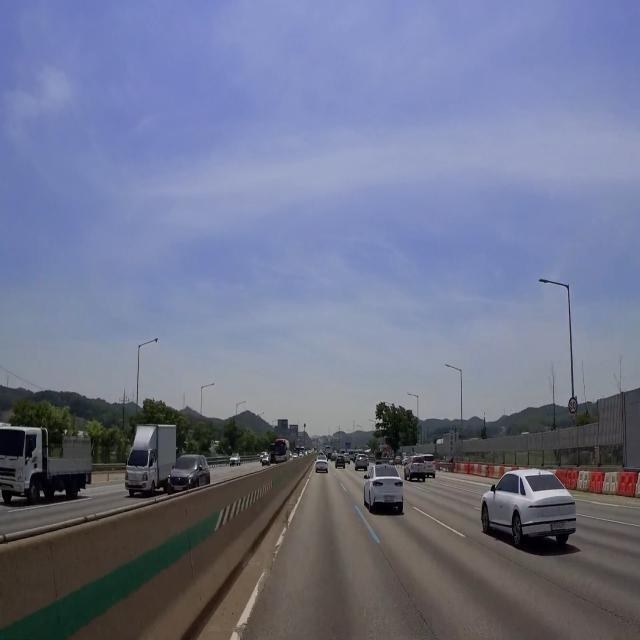car: (549, 521, 570, 537), (381, 488, 397, 509), (0, 476, 10, 498), (171, 481, 187, 494), (127, 480, 143, 492)
